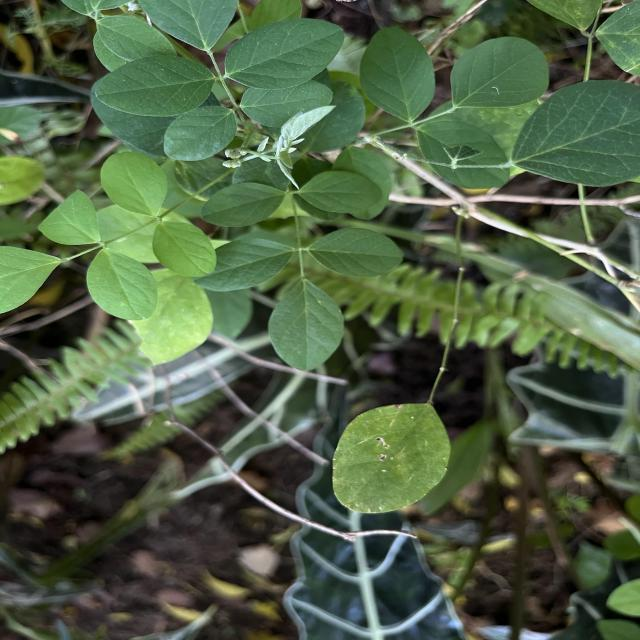Clitoria ternatea: (329, 402, 452, 516), (222, 17, 346, 90), (94, 54, 217, 118), (448, 34, 551, 109), (358, 26, 438, 122), (266, 278, 346, 372), (306, 226, 404, 278), (163, 105, 238, 162), (200, 181, 288, 228), (296, 168, 384, 214)
